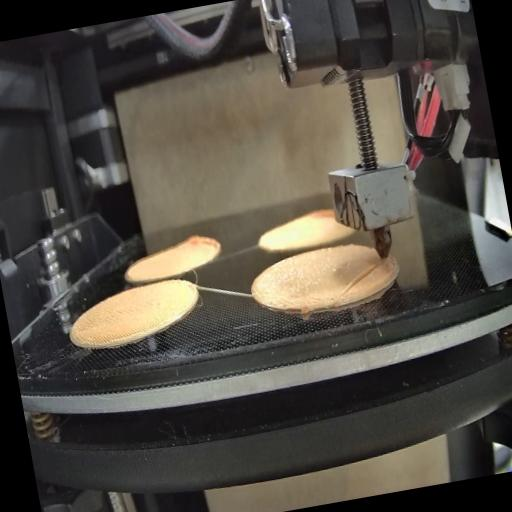over_extrusion: (330, 258, 386, 300), (182, 224, 221, 256)
